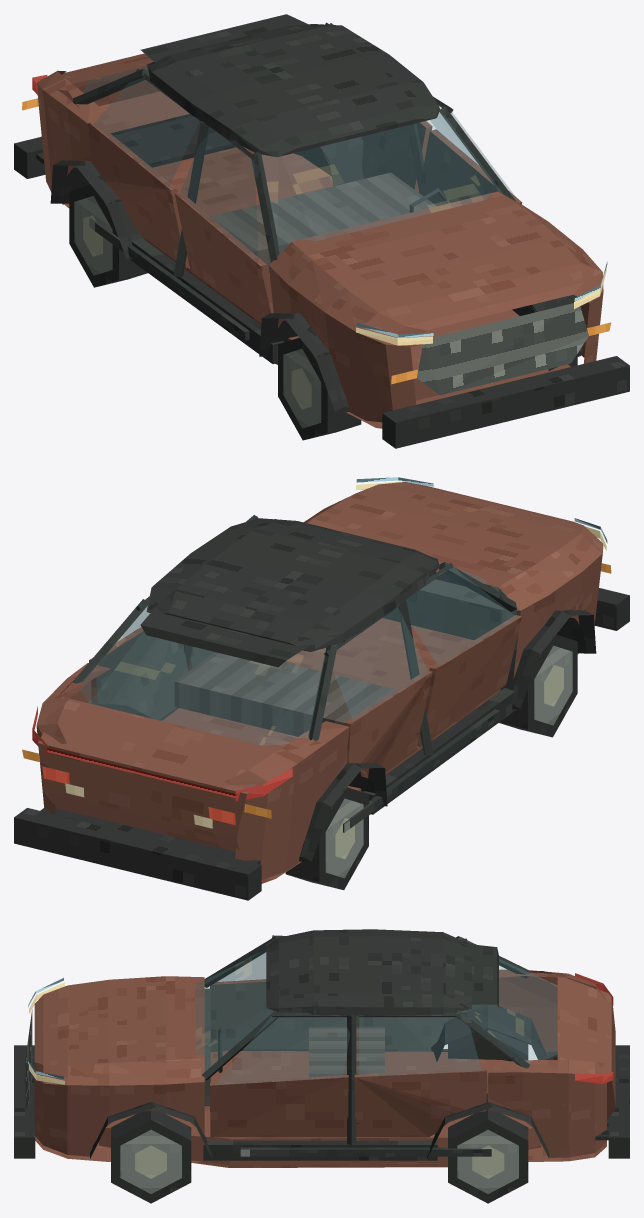
The model's file is stoneweir-2015-mid.glb.
The picture shows the model from 3 angles, top to bottom: view 1: azimuth 30°, elevation 25°; view 2: azimuth 150°, elevation 25°; view 3: azimuth 270°, elevation 25°; orthographic projection. The views are drawn at different scales.
Parts seen in each view (by area): view 1: body, Hood opening panel, Hinged side glass.003, Hinged side glass.002, Shaped hinged outer door.003, Shaped hinged outer door.002, Sculpted liftgate skin, Padded inside door panel, Padded inside door panel.001, Distance tyre.001, Distance tyre.003, Liftgate roof spoiler (+7 smaller); view 2: body, Sculpted liftgate skin, Hood opening panel, Rear safety glass.001, Hinged side glass.003, Hinged side glass.002, Padded inside door panel.001, Shaped hinged outer door.002, Shaped hinged outer door.003, Liftgate roof spoiler, Rear safety glass, Distance tyre.003 (+8 smaller); view 3: body, Hood opening panel, Shaped hinged outer door, Shaped hinged outer door.001, Hinged side glass, Hinged side glass.001, Padded inside door panel.002, Sculpted liftgate skin, Rear safety glass.001, Distance tyre, Distance tyre.002, Distance hubcap (+11 smaller).
Boxes of the visible parts, x1=… form: body: x1=14, y1=24, x2=629, y2=448; Hood opening panel: x1=292, y1=191, x2=583, y2=330; Hinged side glass.003: x1=93, y1=78, x2=199, y2=186; Hinged side glass.002: x1=179, y1=127, x2=258, y2=262; Shaped hinged outer door.003: x1=89, y1=123, x2=186, y2=267; Shaped hinged outer door.002: x1=174, y1=193, x2=270, y2=322; Sculpted liftgate skin: x1=40, y1=53, x2=189, y2=133; Padded inside door panel: x1=419, y1=131, x2=498, y2=205; Padded inside door panel.001: x1=361, y1=122, x2=425, y2=189; Distance tyre.001: x1=278, y1=337, x2=361, y2=440; Distance tyre.003: x1=69, y1=185, x2=147, y2=287; Liftgate roof spoiler: x1=140, y1=14, x2=309, y2=62; body: x1=14, y1=487, x2=629, y2=900; Sculpted liftgate skin: x1=38, y1=697, x2=288, y2=851; Hood opening panel: x1=307, y1=482, x2=583, y2=586; Rear safety glass.001: x1=90, y1=631, x2=305, y2=745; Hinged side glass.003: x1=333, y1=607, x2=427, y2=720; Hinged side glass.002: x1=406, y1=567, x2=517, y2=665; Padded inside door panel.001: x1=96, y1=631, x2=188, y2=720; Shaped hinged outer door.002: x1=421, y1=617, x2=521, y2=746; Shaped hinged outer door.003: x1=348, y1=672, x2=432, y2=777; Liftgate roof spoiler: x1=140, y1=607, x2=309, y2=667; Rear safety glass: x1=263, y1=648, x2=325, y2=745; Distance tyre.003: x1=285, y1=787, x2=368, y2=889; body: x1=14, y1=929, x2=629, y2=1167; Hood opening panel: x1=34, y1=976, x2=204, y2=1064; Shaped hinged outer door: x1=210, y1=1077, x2=348, y2=1137; Shaped hinged outer door.001: x1=354, y1=1071, x2=486, y2=1137; Hinged side glass: x1=215, y1=1016, x2=349, y2=1084; Hinged side glass.001: x1=359, y1=1017, x2=480, y2=1076; Padded inside door panel.002: x1=210, y1=981, x2=346, y2=1049; Sculpted liftgate skin: x1=557, y1=975, x2=615, y2=1120; Rear safety glass.001: x1=471, y1=962, x2=557, y2=1053; Distance tyre: x1=111, y1=1110, x2=191, y2=1203; Distance tyre.002: x1=448, y1=1109, x2=528, y2=1203; Distance hubcap: x1=120, y1=1129, x2=181, y2=1193.
Bounding box in the file's own units: 2.14 × 1.67 × 4.93.
Materials: 6 (6 with a texture image).
